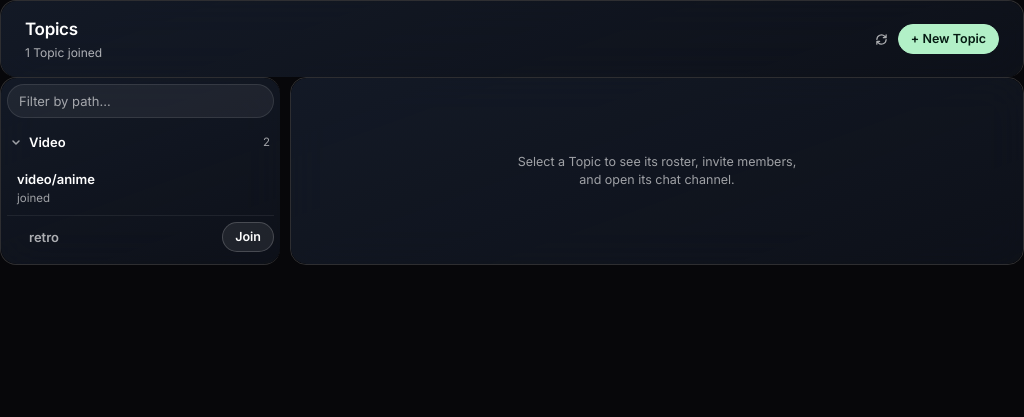
review 6 — a rejected bio fetch does not poison the cache › a REJECTED resolve does NOT render the absent line; a later hover RETRIES (second pasteKey)
Click the button with class "topic-row": coordinates (56, 179) [7,161,274,215]
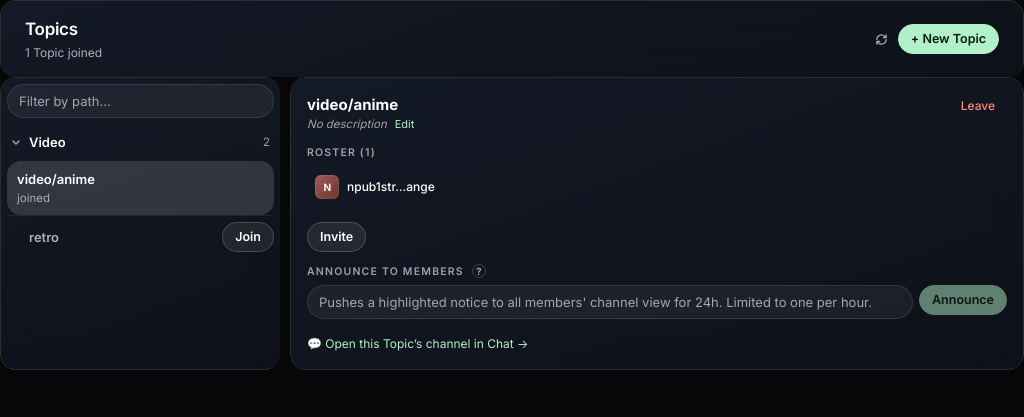
Hover over the element with class "self": coordinates (375, 187) [315,175,435,199]
Hover over the element with class "self": coordinates (375, 187) [315,175,435,199]
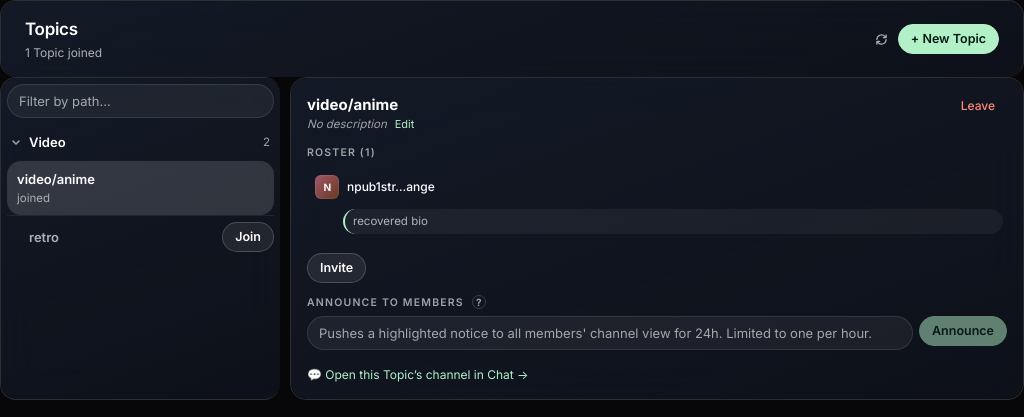
Expected: the tooltip "recovered bio" is shown, [343,209,1003,234]
